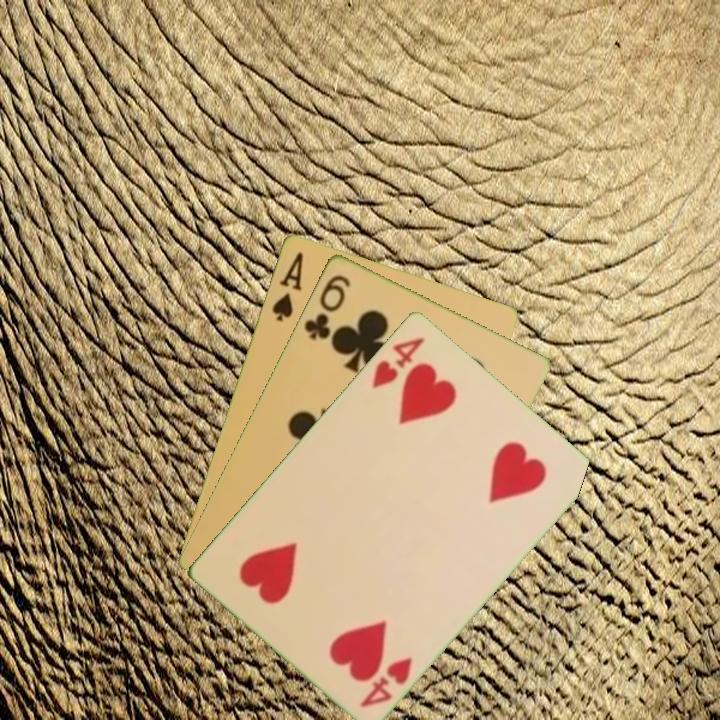4h: (356, 652, 416, 711), (368, 333, 427, 391)
6c: (300, 270, 354, 343)
As: (268, 248, 306, 324)
